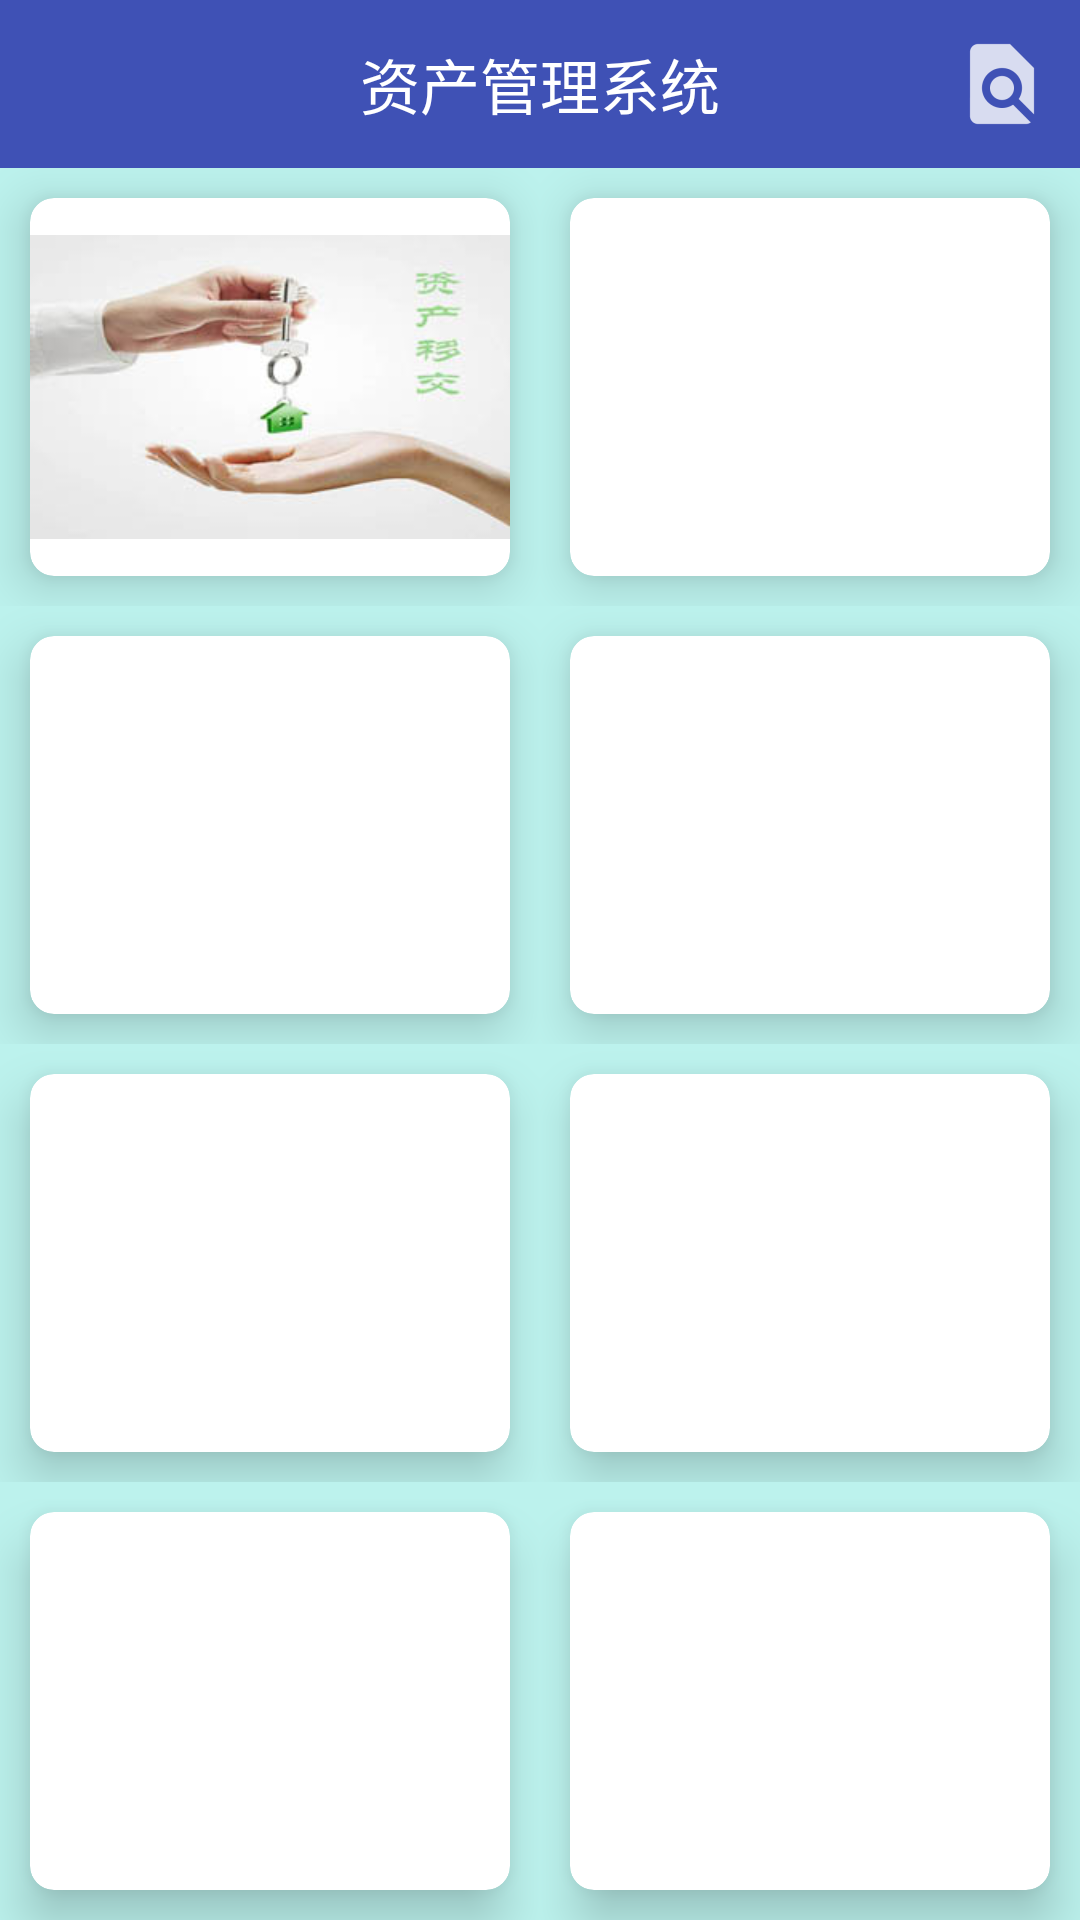

Locate icon controls on the screen. Image size 1080 x 1920, boxes as {"x1": x1, "y1": y1, "x2": x2, "y2": y2}.
search db: {"x1": 970, "y1": 44, "x2": 1034, "y2": 124}
